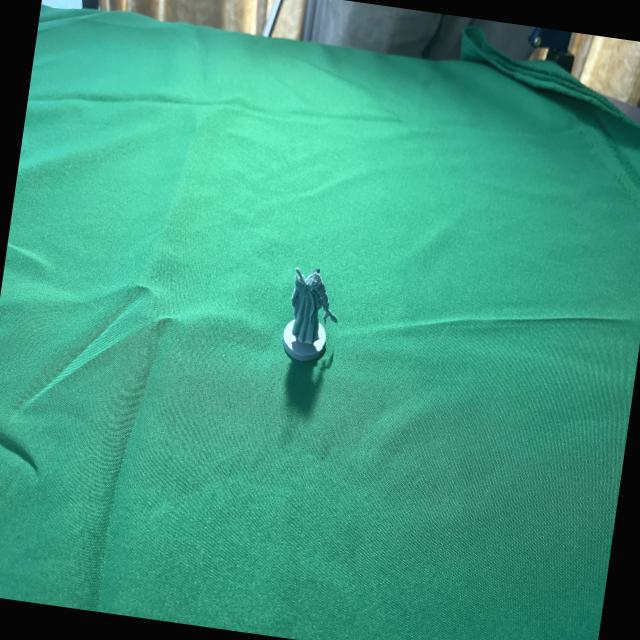isis_follower: (272, 266, 345, 370)
